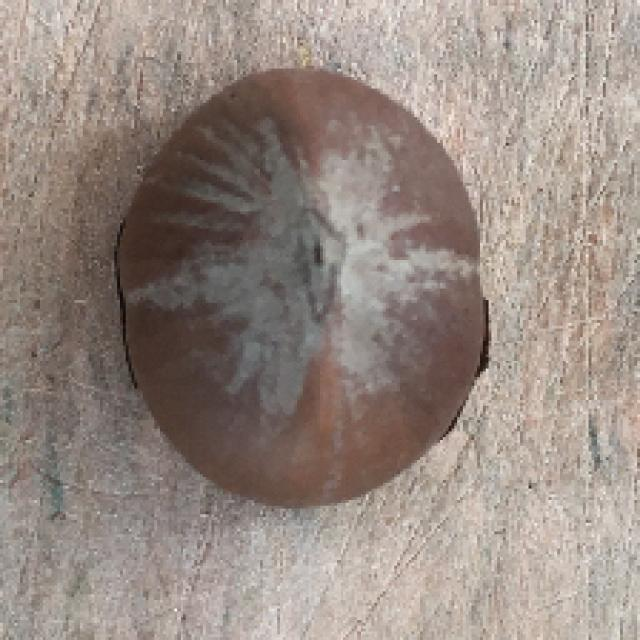DamagedHazelnut: (119, 71, 482, 515)
